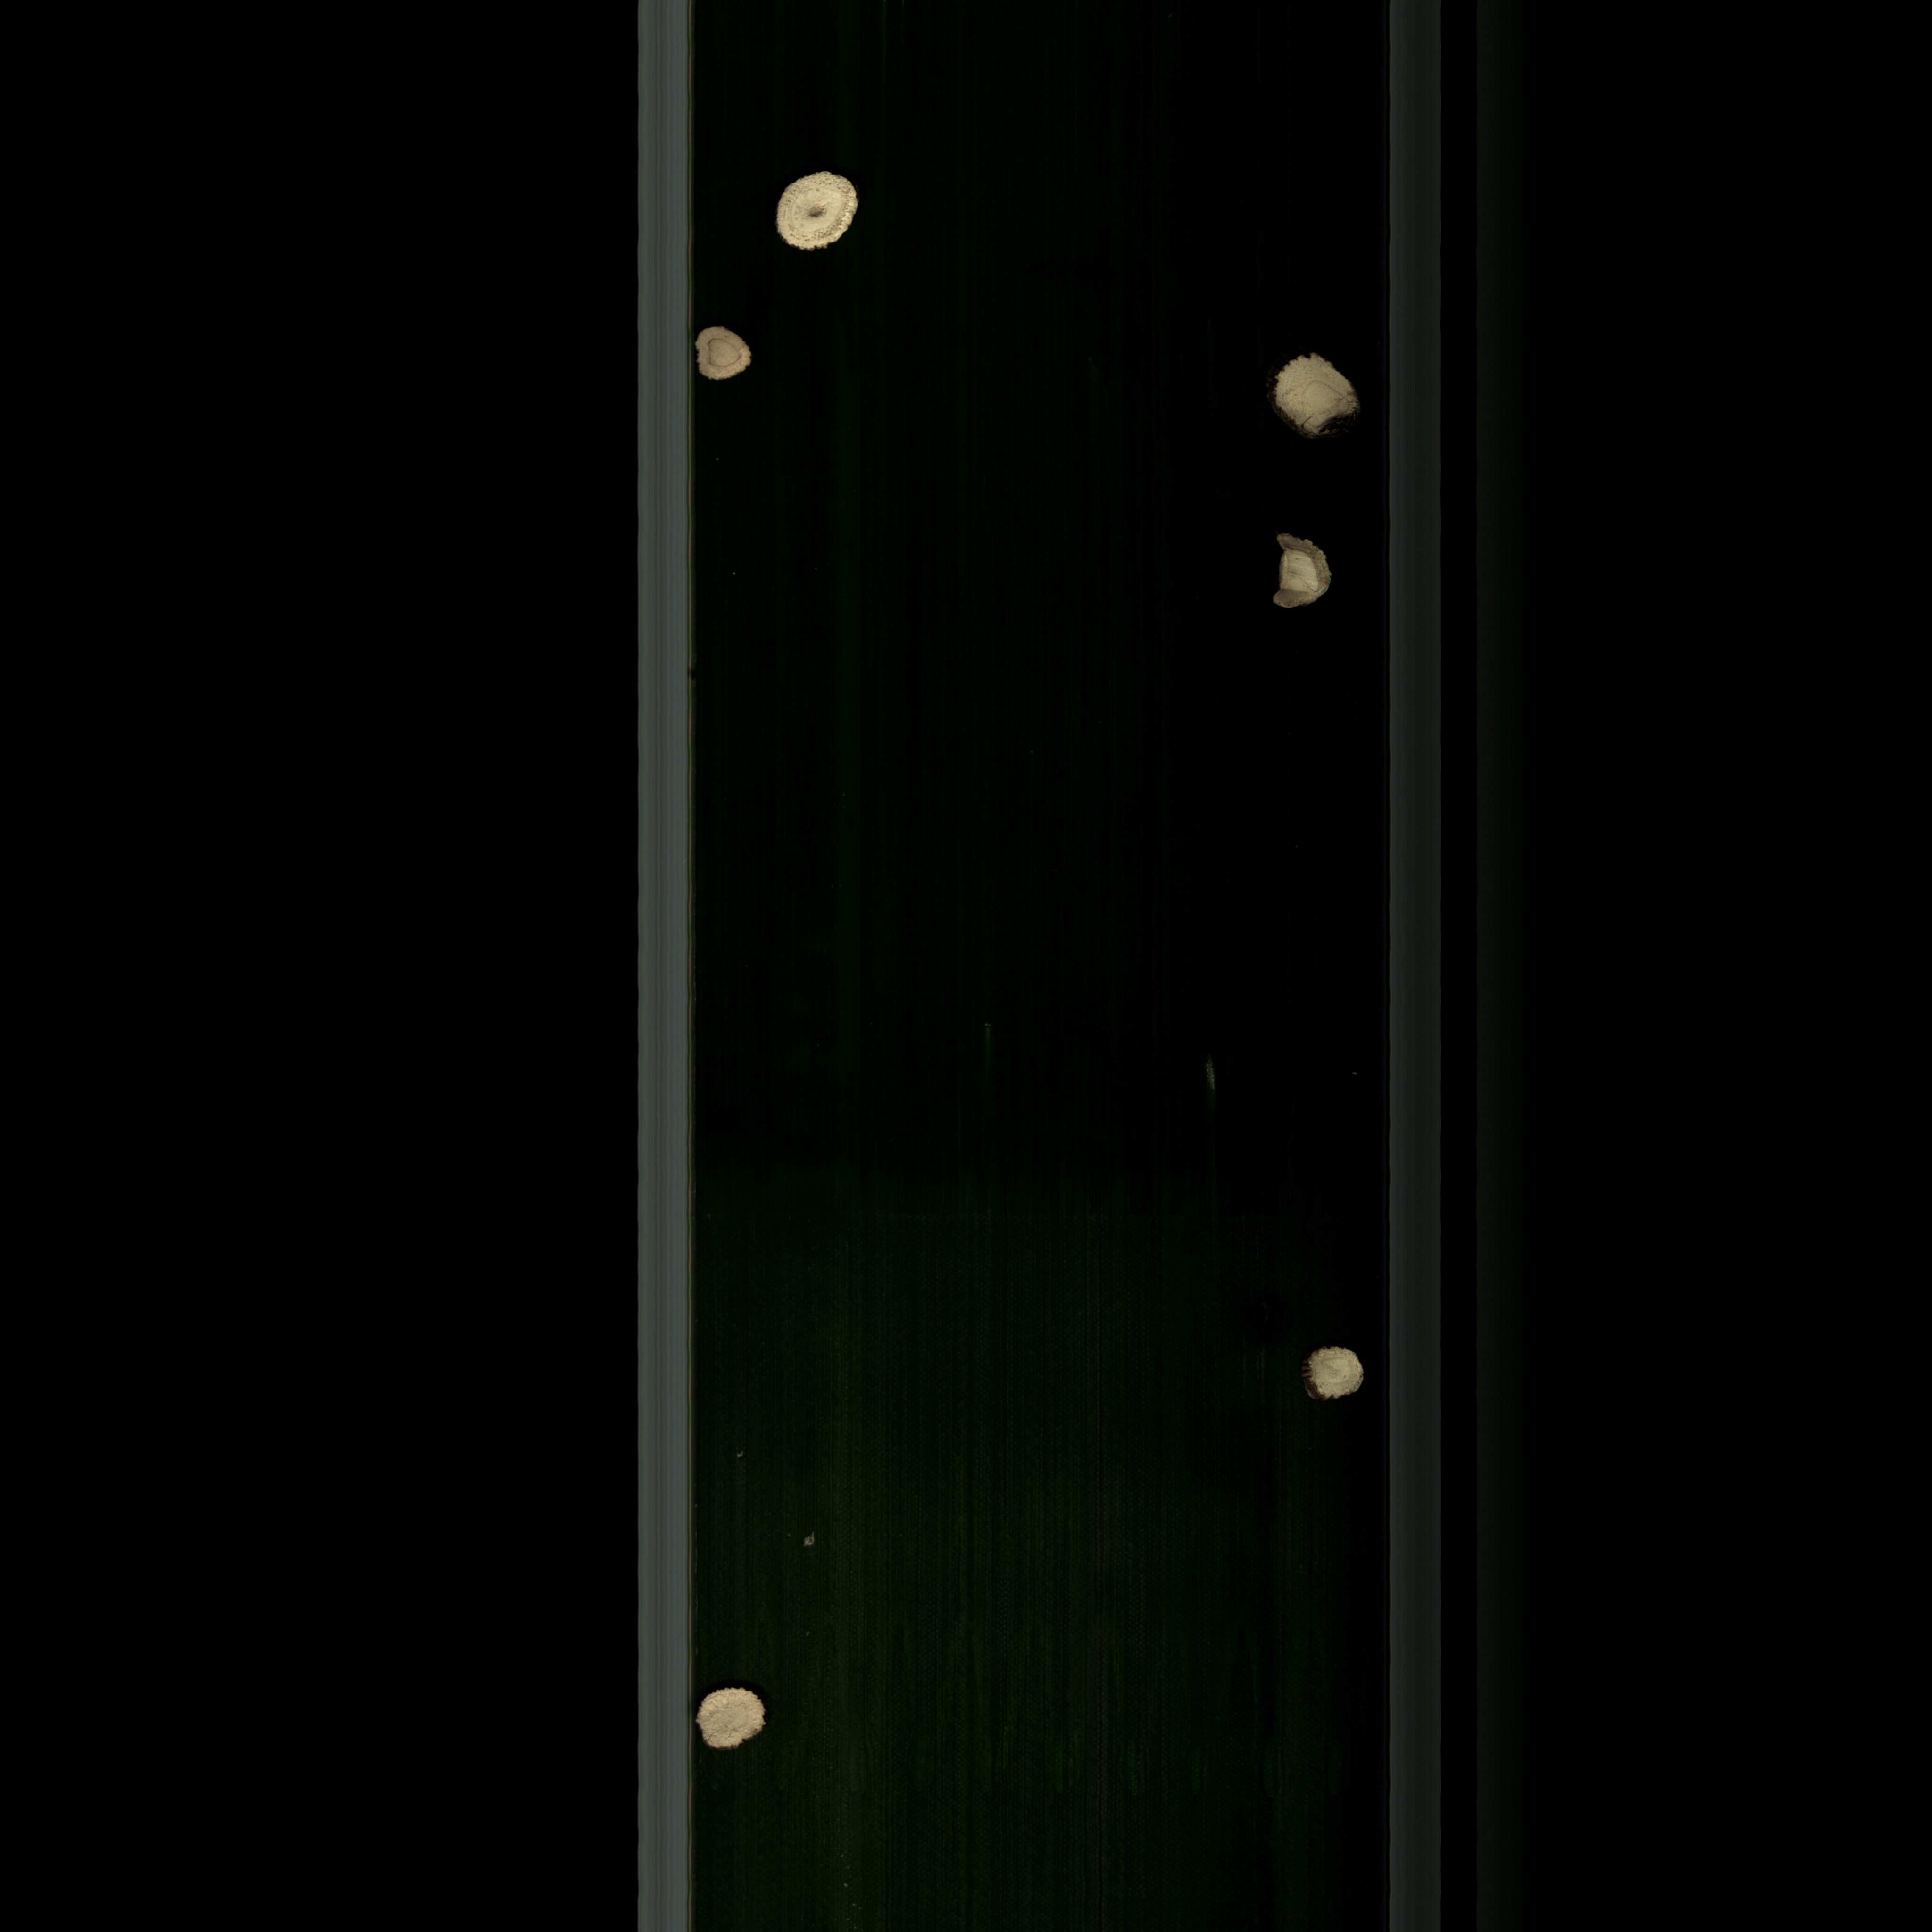distortion: (1288, 1338, 1368, 1408)
moldy: (1258, 345, 1375, 446), (764, 166, 872, 258), (1270, 525, 1341, 619), (688, 313, 764, 389)
